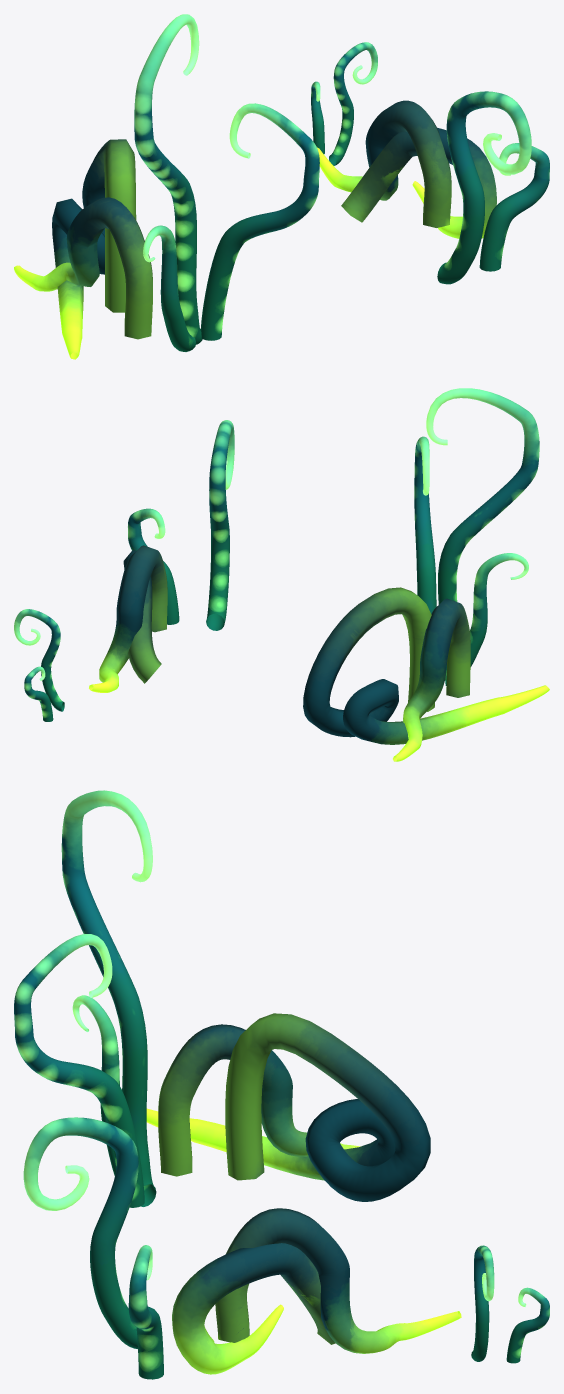
Rendered from detalhe_3.fbx.
The picture shows the model from 3 angles, top to bottom: view 1: azimuth 30°, elevation 25°; view 2: azimuth 150°, elevation 25°; view 3: azimuth 270°, elevation 25°; orthographic projection. The views are drawn at different scales.
Parts seen in each view (by area): view 1: planta_9.001, planta_3.003, planta_3.004, planta_3.001; view 2: planta_9.001, planta_3.003, planta_3.004, planta_3.001; view 3: planta_9.001, planta_3.003, planta_3.004, planta_3.001.
Boxes of the visible parts, <box> form: planta_9.001: <box>14,100,496,359</box>; planta_3.003: <box>134,14,319,351</box>; planta_3.004: <box>437,91,549,284</box>; planta_3.001: <box>311,42,377,165</box>; planta_9.001: <box>89,545,549,761</box>; planta_3.003: <box>414,388,539,685</box>; planta_3.004: <box>128,420,234,630</box>; planta_3.001: <box>14,609,64,721</box>; planta_9.001: <box>146,1013,461,1374</box>; planta_3.003: <box>14,790,156,1207</box>; planta_3.004: <box>23,1117,163,1379</box>; planta_3.001: <box>471,1245,549,1363</box>.
Bounding box in the file's own units: 357 × 241 × 296.
